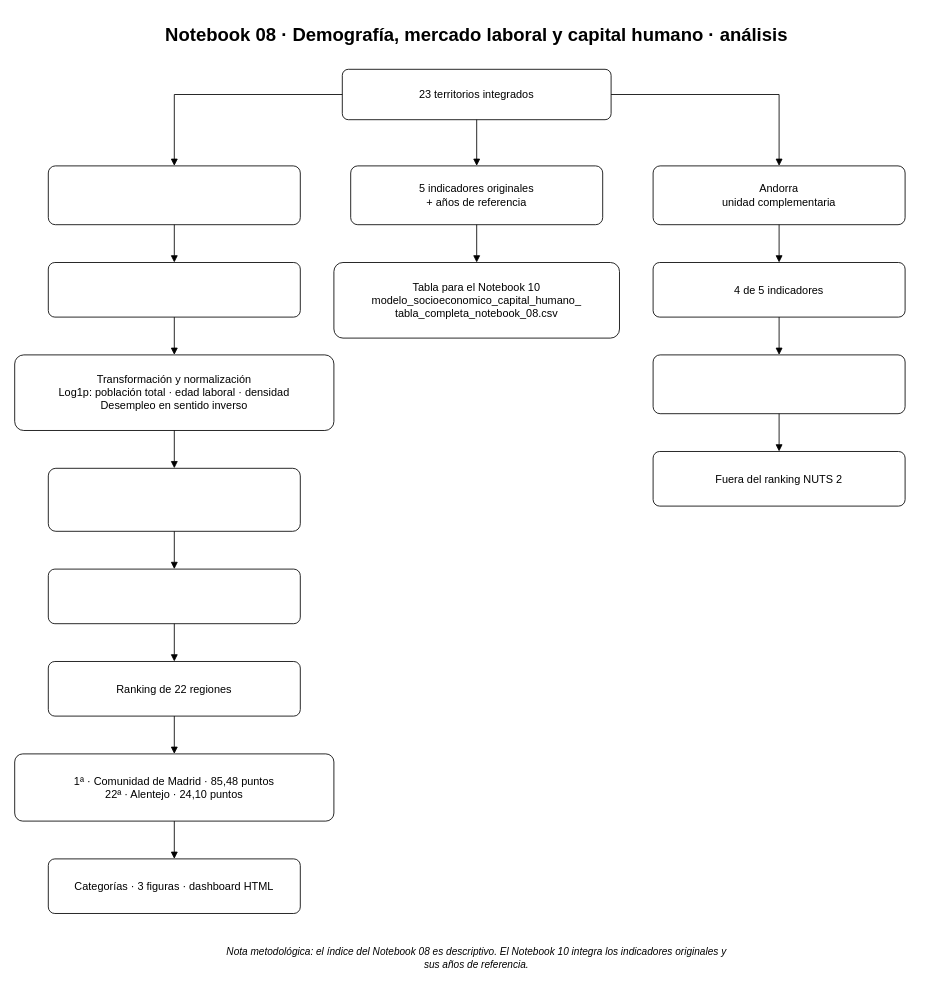
This 937x990 diagram has some shape labels left out. Here are the shapes that lost their labels. From the top down, the centre of each, then its label:
At point (173, 195): "22 regiones NUTS 2 comparables".
At point (173, 289): "5 indicadores para el análisis exploratorio".
At point (778, 384): "Sin tasa de desempleo en el Notebook 08".
At point (173, 499): "Ponderación 15% · 25% · 15% · 20% · 25%".
At point (173, 596): "Índice exploratorio 0–100".
